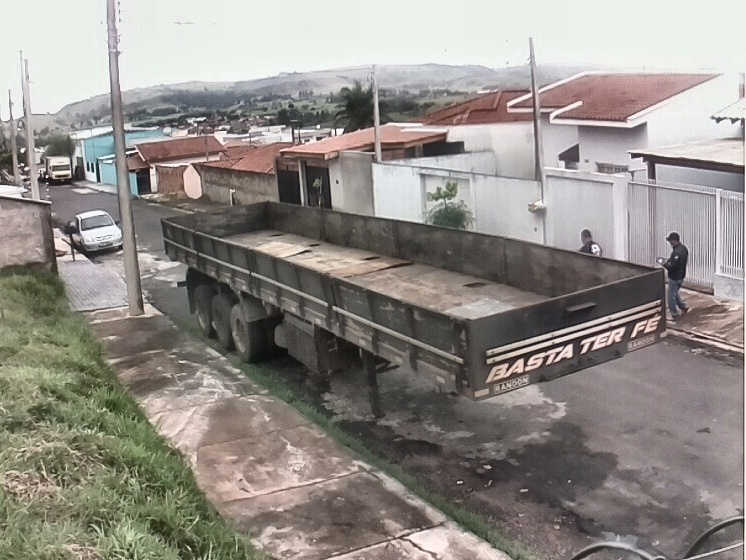person: (655, 233, 694, 322), (575, 229, 602, 260)
